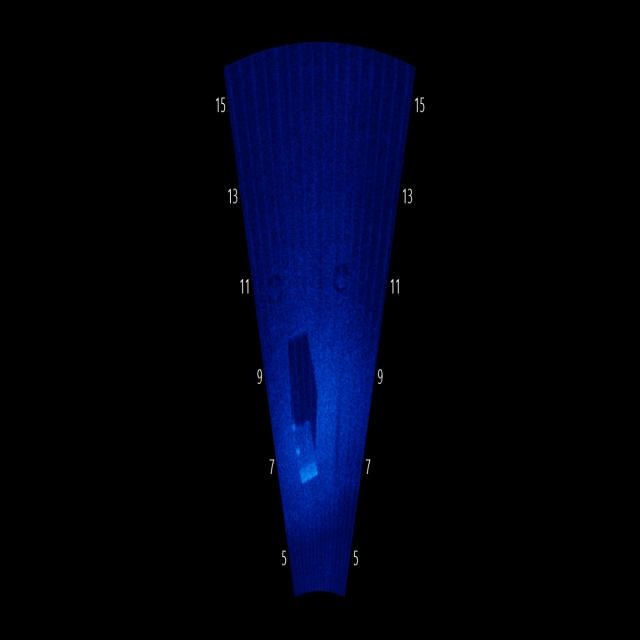square: (286, 392, 326, 498)
